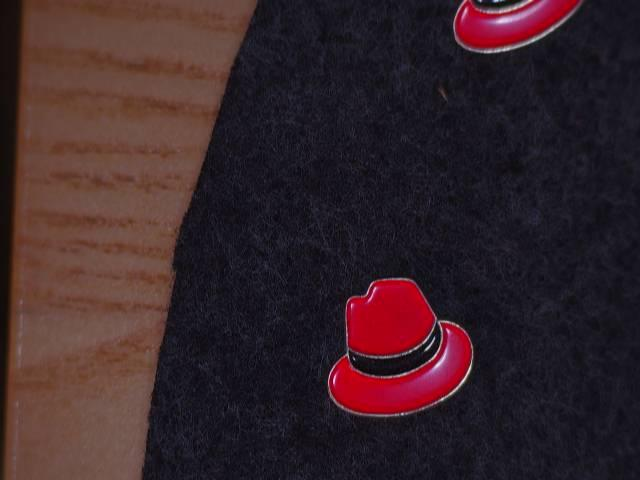Red-Hat: (305, 258, 518, 454), (432, 0, 605, 63)
